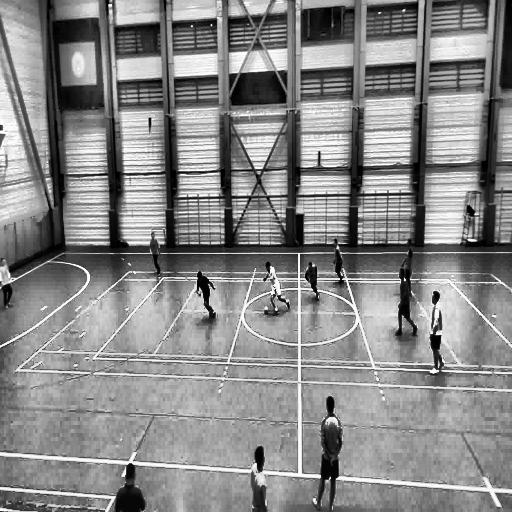ball: (264, 306, 268, 315)
player: (310, 397, 341, 512), (114, 464, 146, 512), (250, 445, 272, 512), (392, 267, 413, 336), (263, 262, 290, 313), (428, 290, 444, 375), (196, 271, 218, 318), (0, 258, 13, 308), (304, 261, 319, 300), (333, 239, 345, 285), (149, 231, 160, 276)
